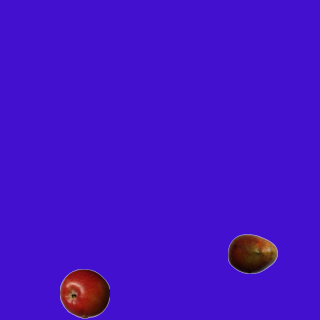Apple Braeburn: (59, 268, 109, 318)
Mango Red: (227, 228, 277, 278)
